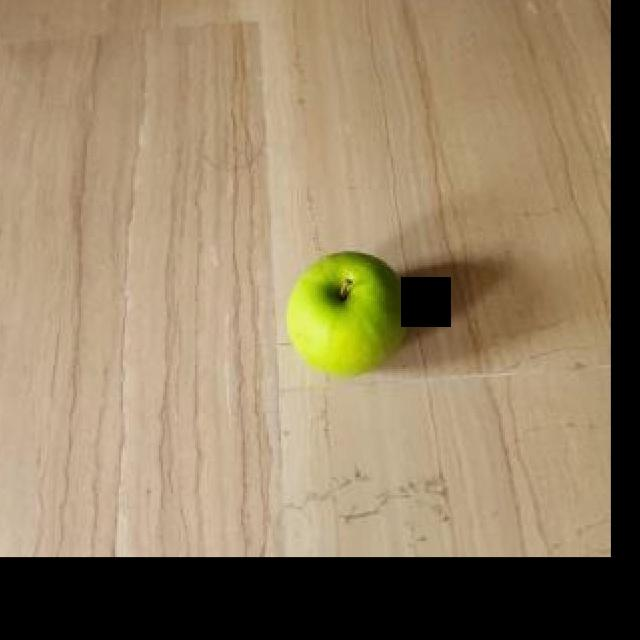green apple: (280, 244, 414, 384)
